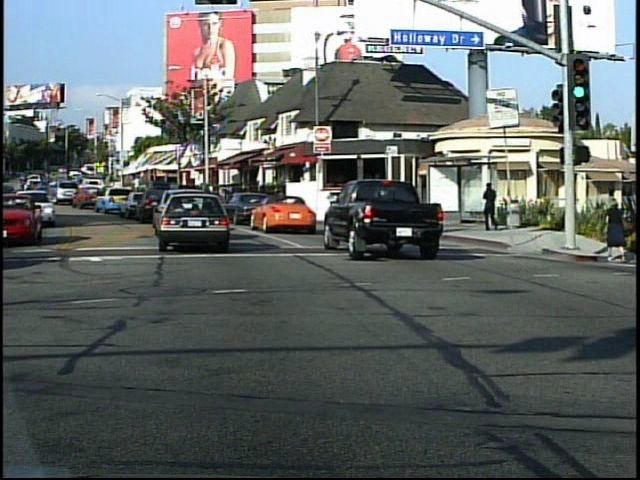person: (603, 192, 632, 265), (479, 180, 501, 236)
